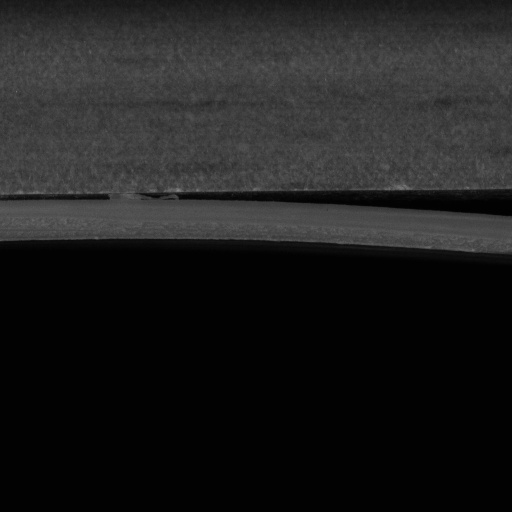kaijiao: (0, 180, 511, 258)
